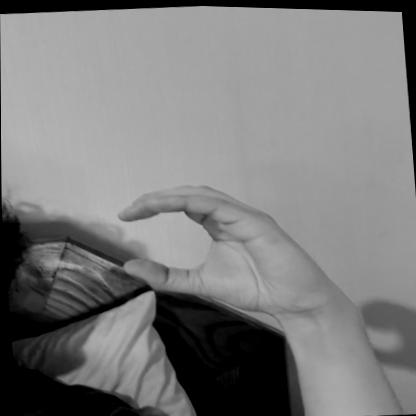C: (101, 162, 341, 336)
